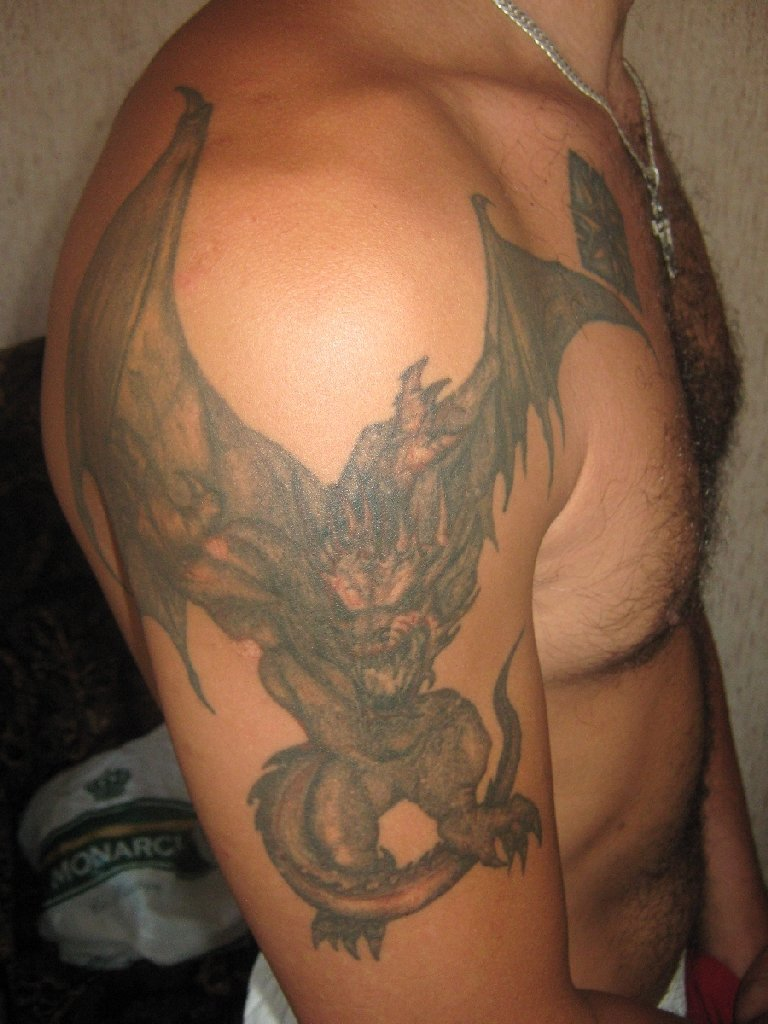tatu3_bukva: (18, 54, 691, 1005)
